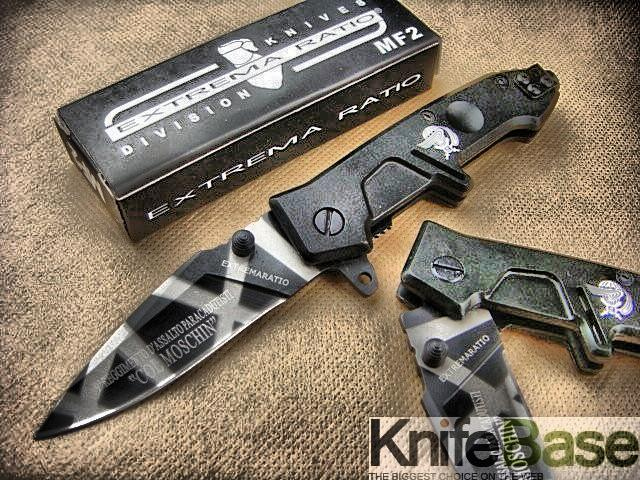knife: (26, 206, 328, 446)
